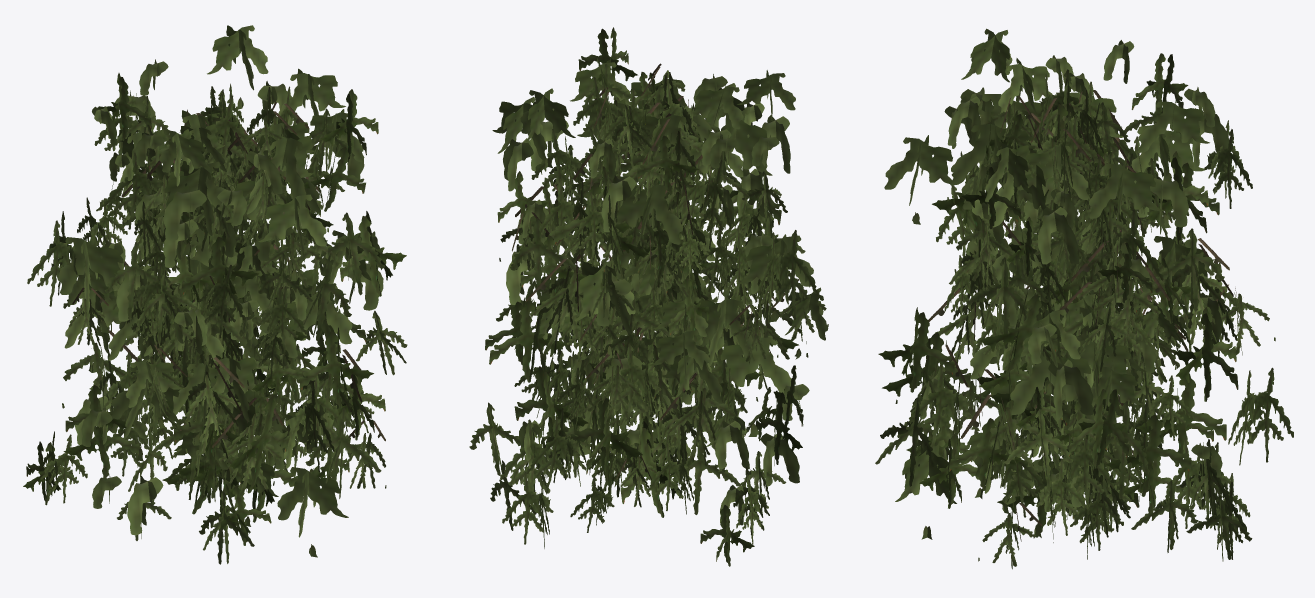
File: hedge-shrub-lod1.glb
3 views of the same model, side by side, from view 1: azimuth 30°, elevation 25°; view 2: azimuth 150°, elevation 25°; view 3: azimuth 270°, elevation 25° (orthographic). The views are drawn at different scales.
Parts seen in each view (by area): view 1: foliage; view 2: foliage; view 3: foliage.
Boxes of the visible parts, box(x1,y1,x2,y2) form: foliage: box(23, 25, 407, 564); foliage: box(469, 27, 828, 566); foliage: box(875, 28, 1293, 569).
Size of the model in its own units: 1.05 by 1.22 by 1.01.
1 material, 1 textured.
